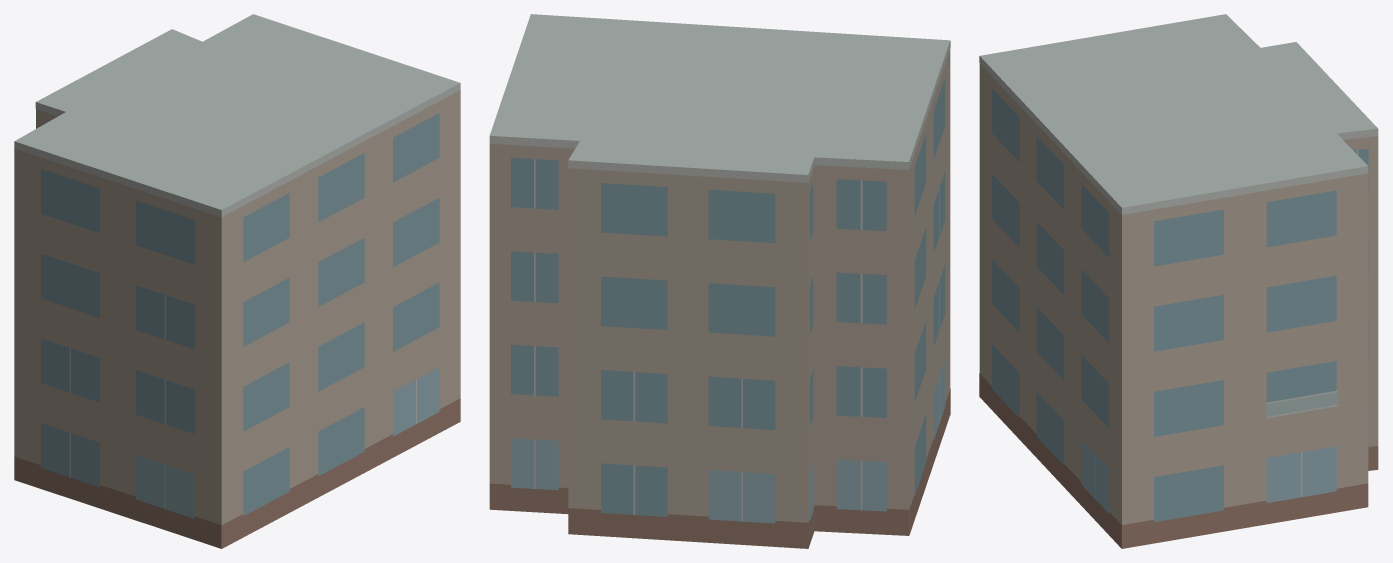
File: survey-upis-32981491.glb
3 renders of one model, left to right at view 1: azimuth 30°, elevation 25°; view 2: azimuth 150°, elevation 25°; view 3: azimuth 270°, elevation 25°, orthographic. The views are drawn at different scales.
Parts seen in each view (by area): view 1: survey-upis-32981491.tmp; view 2: survey-upis-32981491.tmp; view 3: survey-upis-32981491.tmp.
Part boxes in pixels (x1,y1,x2,y2): survey-upis-32981491.tmp: [14, 14, 460, 548]; survey-upis-32981491.tmp: [489, 14, 950, 548]; survey-upis-32981491.tmp: [979, 14, 1378, 548].
Size of the model in its own units: 14.15 by 11.6 by 12.3.
